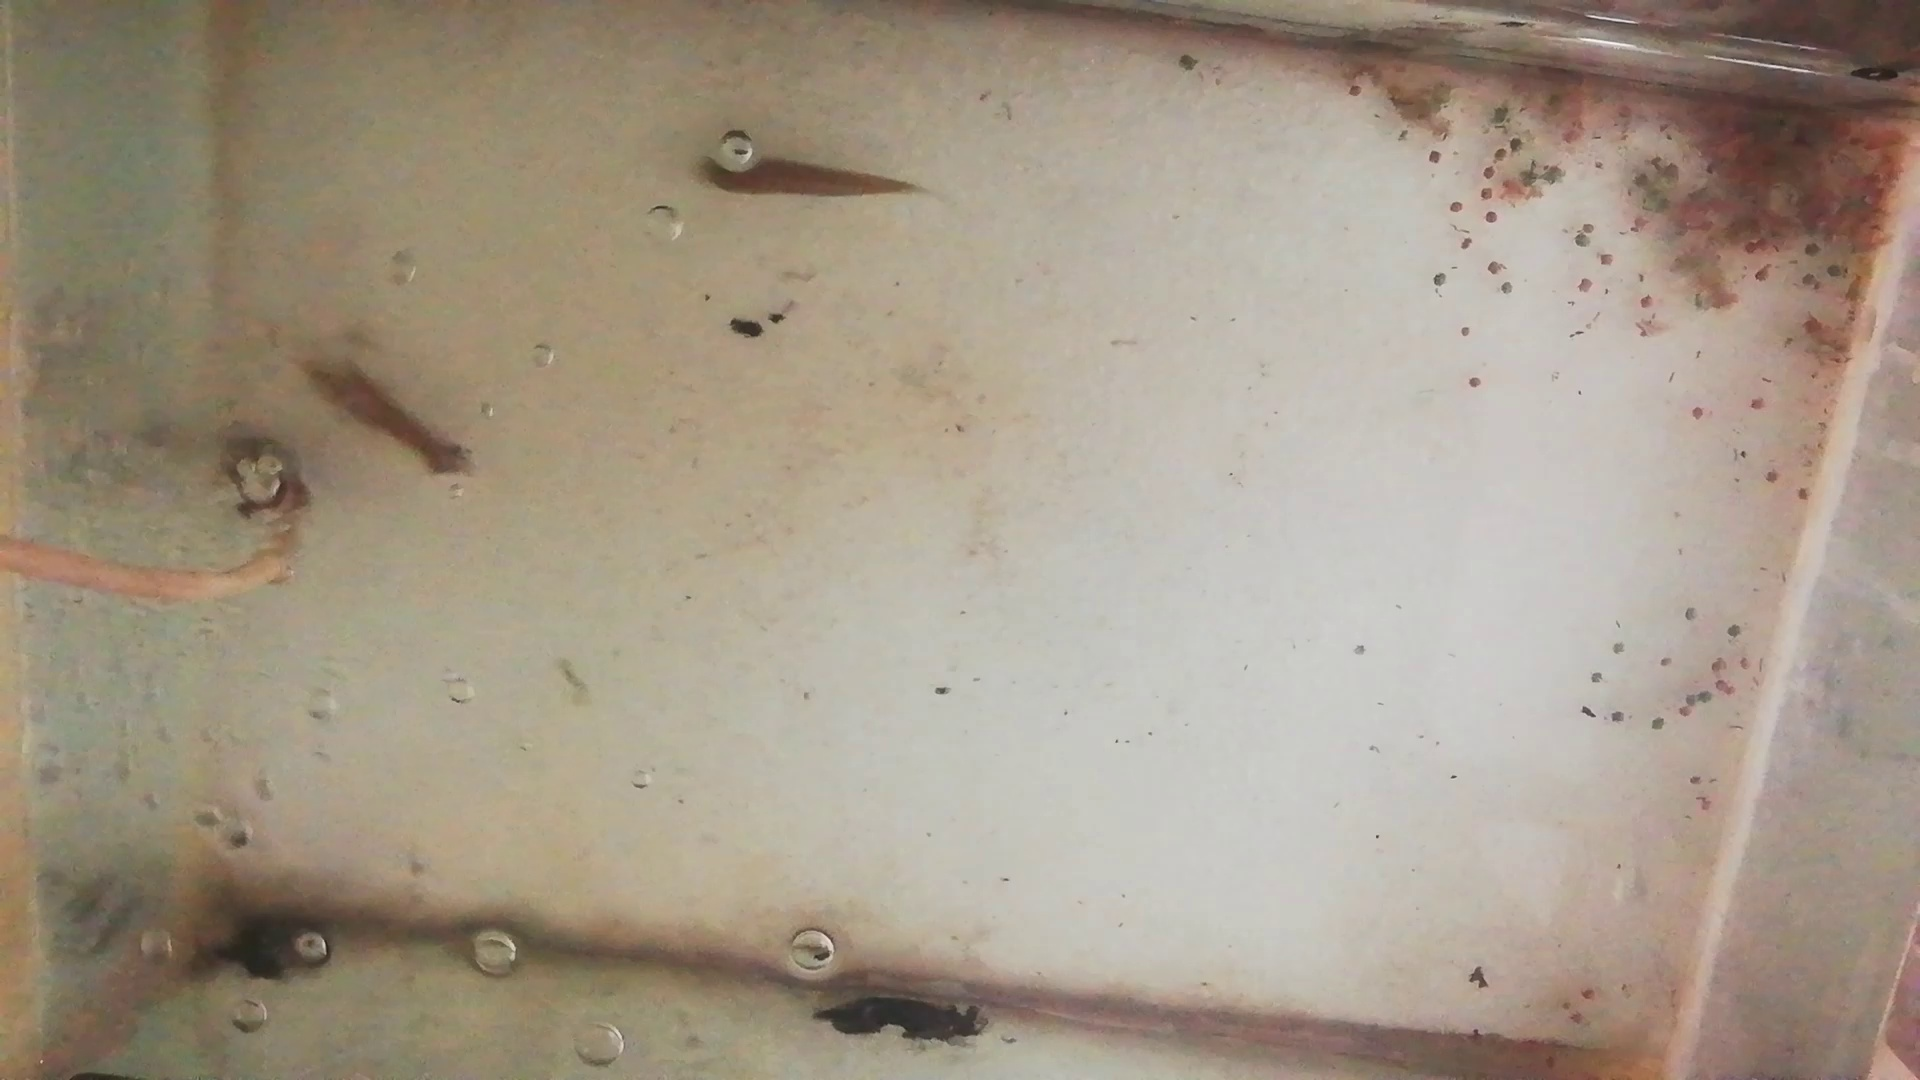fish: (297, 351, 480, 483), (690, 153, 915, 200)
